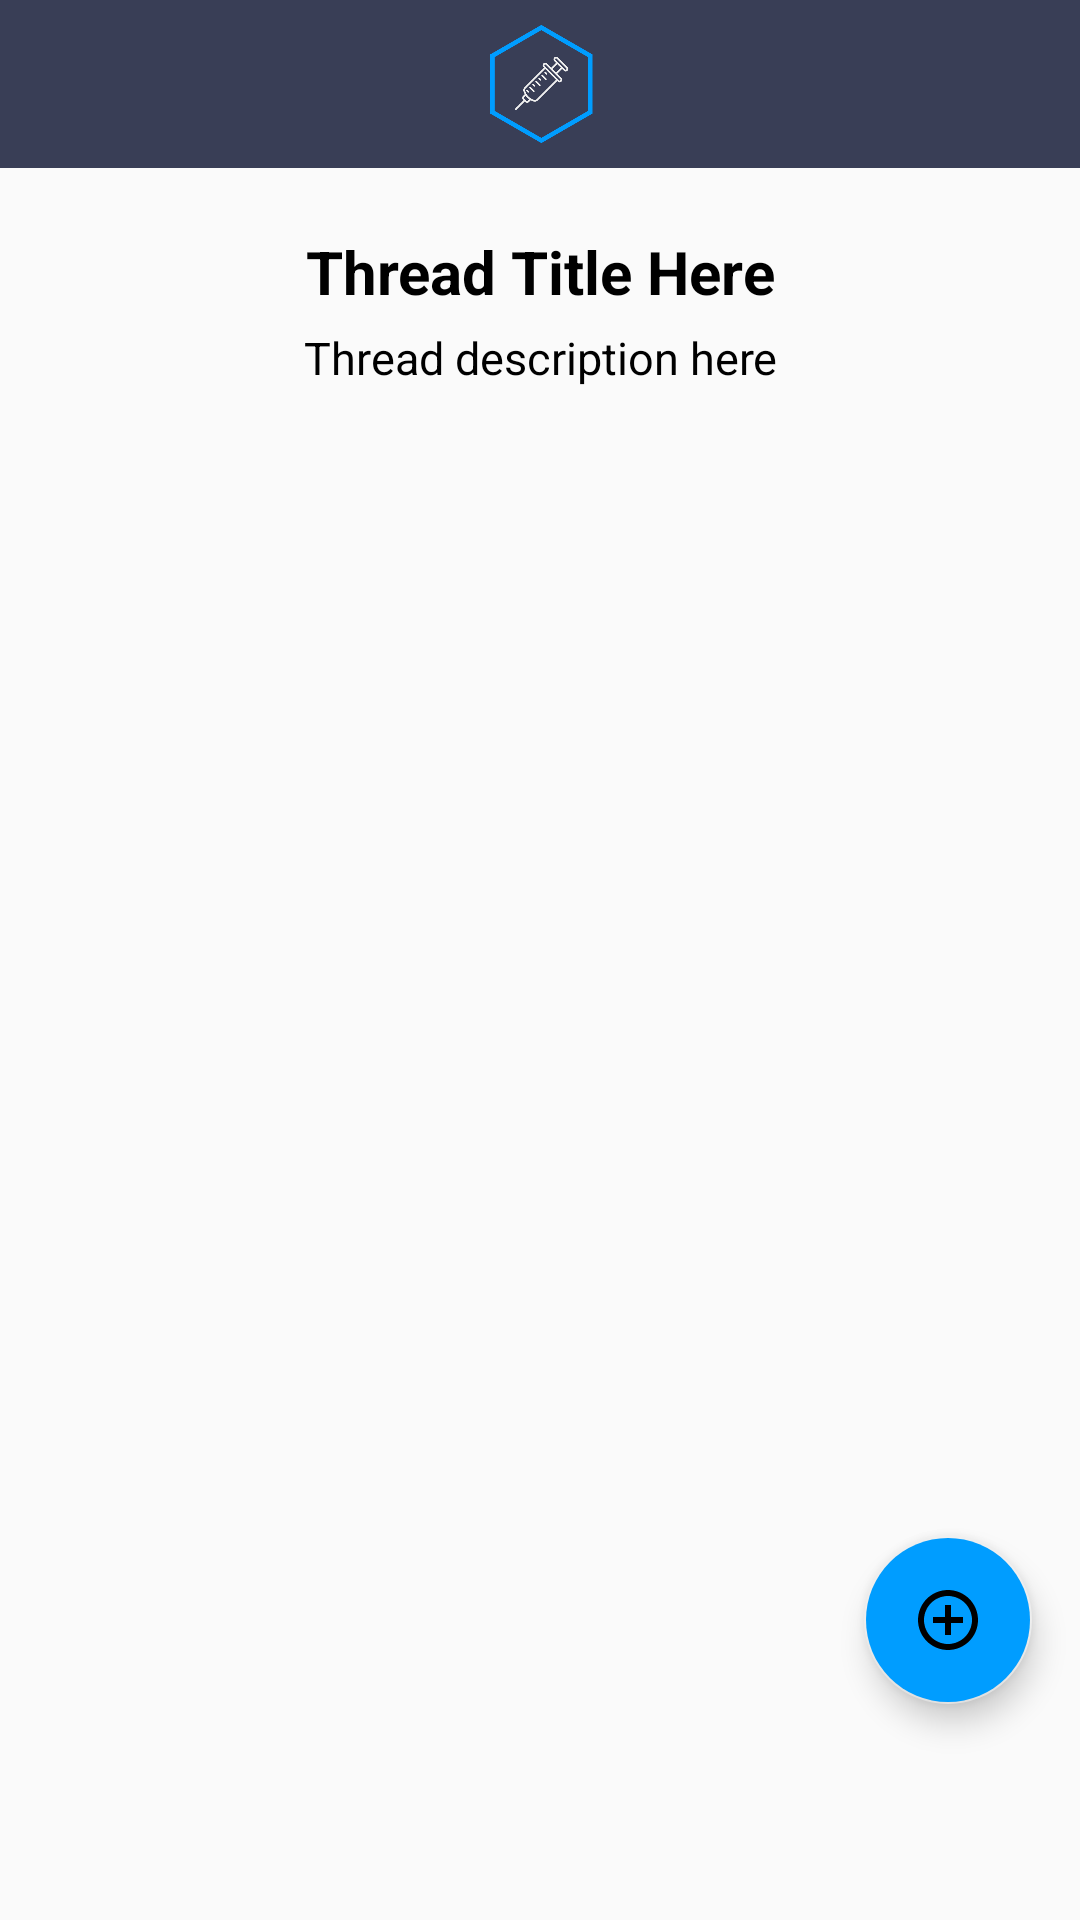

Where to tap for icons on this 1080 x 1920 app screen, as [x,y]:
fab plus in circle: [949,1621]
